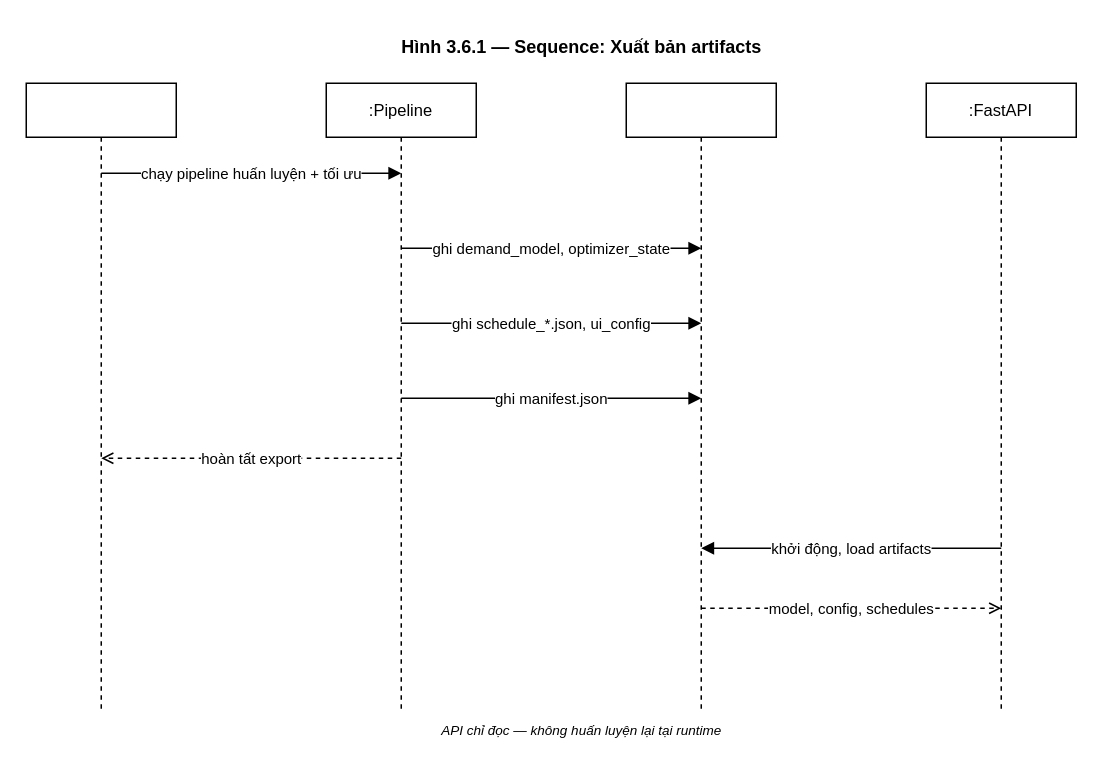
This 1103x768 diagram has some shape labels left out. The box of each missing label's shape, as (x1, y1, x2, y2) in pixels:
:Notebook: (25, 82, 176, 713)
:ui_export/: (625, 82, 776, 713)
